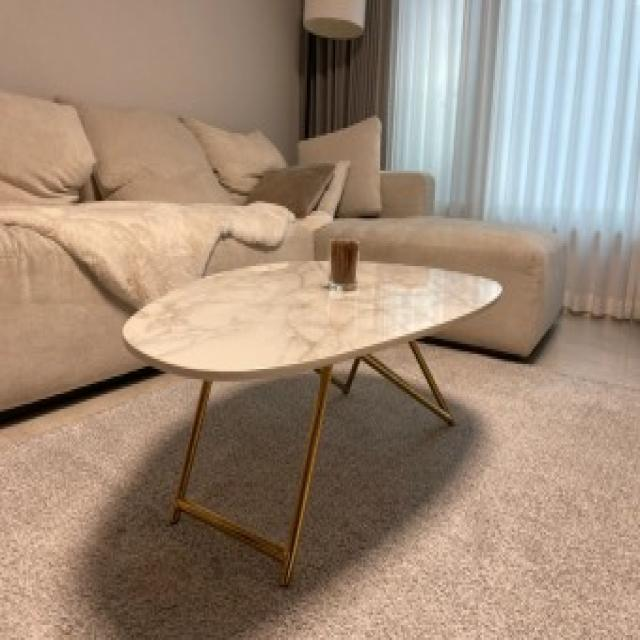Sofa: (6, 86, 561, 362)
Table: (123, 252, 500, 570)
window: (393, 5, 640, 242)
